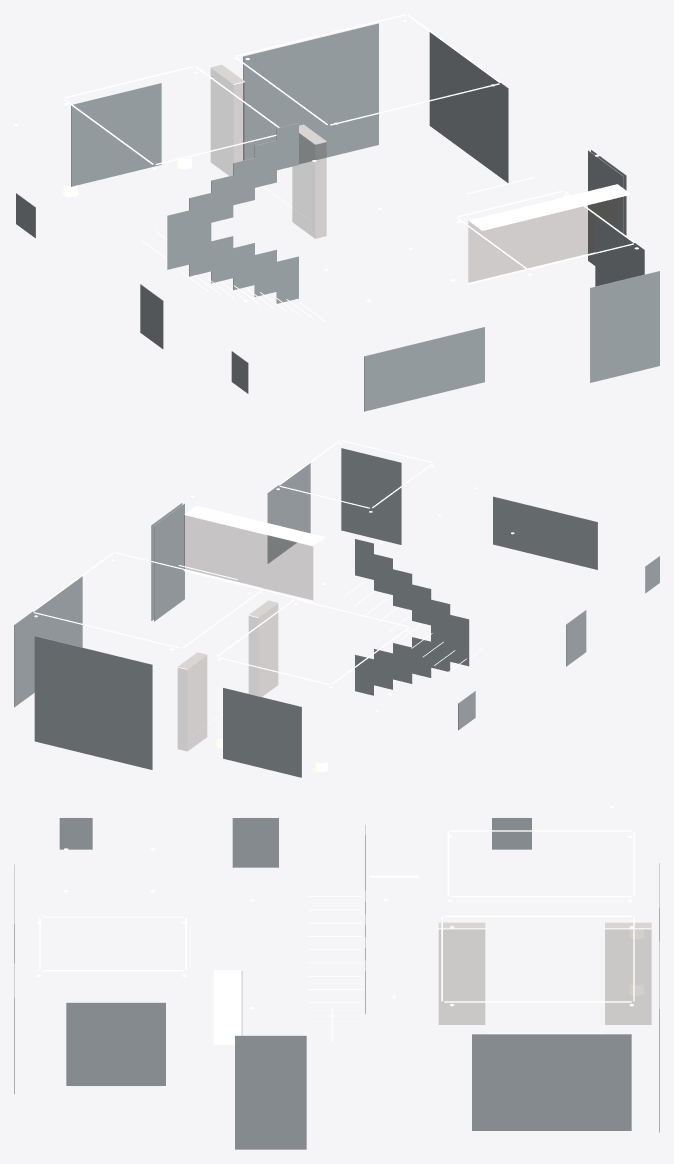
3 renders of one model, top to bottom at view 1: azimuth 30°, elevation 25°; view 2: azimuth 150°, elevation 25°; view 3: azimuth 270°, elevation 25°, orthographic. The views are drawn at different scales.
Visible parts, largest first — view 1: zone_gf_glass, zone_gf_fx; view 2: zone_gf_glass, zone_gf_fx; view 3: zone_gf_glass, zone_gf_fx.
Part boxes in pixels (left/top/right/bottom): zone_gf_glass: left=16, top=23, right=659, bottom=411; zone_gf_fx: left=14, top=14, right=638, bottom=321; zone_gf_glass: left=14, top=448, right=659, bottom=777; zone_gf_fx: left=32, top=440, right=551, bottom=772; zone_gf_glass: left=14, top=818, right=659, bottom=1149; zone_gf_fx: left=37, top=806, right=651, bottom=1044.
Bounding box in the file's own units: 11.02 × 4.13 × 13.04.
